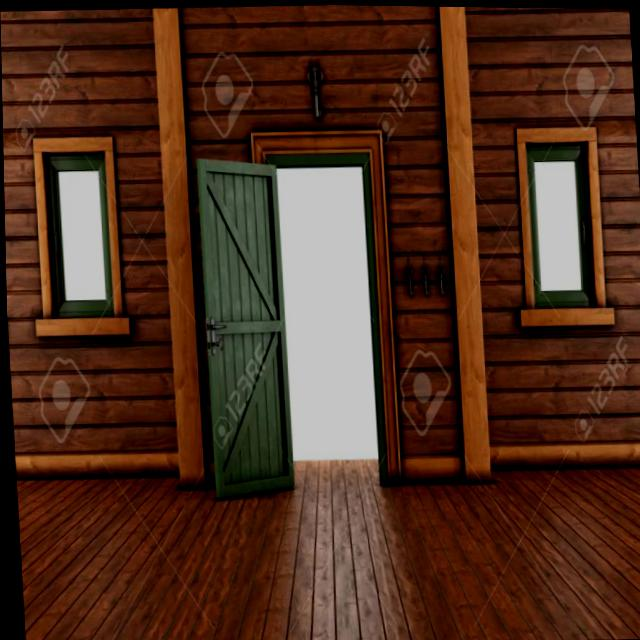open: (188, 110, 412, 514)
